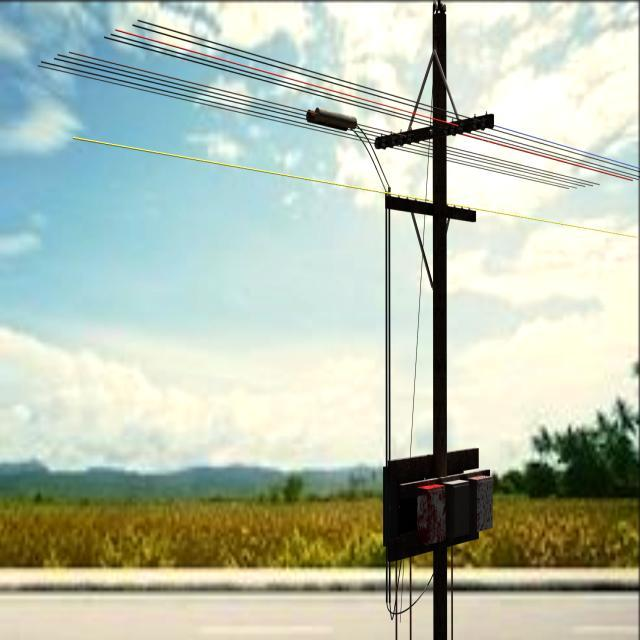crossarm: (383, 446, 480, 564), (376, 114, 496, 150), (385, 194, 476, 222)
pole: (433, 5, 447, 640)
transformer: (415, 482, 446, 544), (444, 476, 472, 541), (470, 472, 494, 532)
wire: (115, 26, 640, 182), (102, 31, 638, 183), (131, 21, 640, 179), (135, 16, 640, 170), (67, 48, 603, 187), (56, 52, 596, 187), (38, 57, 579, 190), (36, 64, 571, 189), (73, 136, 638, 240), (399, 85, 433, 631), (384, 208, 388, 609), (388, 211, 391, 605), (450, 543, 455, 640), (408, 557, 413, 640), (394, 562, 399, 639)
